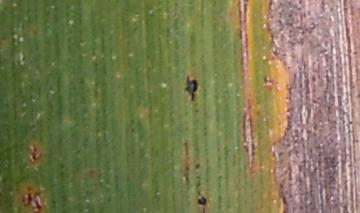tarspot: (184, 73, 199, 102), (195, 190, 207, 207), (193, 162, 201, 170)
